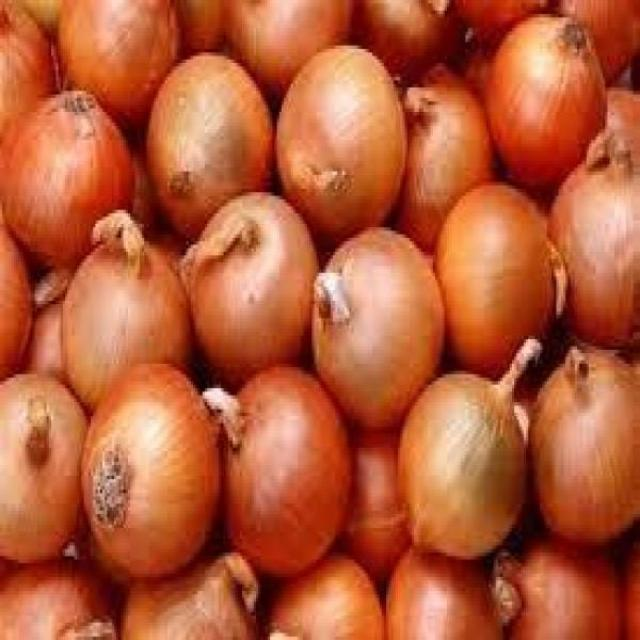Onion: (69, 365, 213, 579), (216, 360, 355, 566), (393, 370, 541, 549), (140, 58, 276, 216), (302, 232, 451, 375), (2, 94, 142, 246), (528, 348, 640, 538), (183, 198, 317, 351), (428, 188, 558, 340), (55, 237, 202, 357), (279, 54, 389, 205), (485, 23, 593, 174), (380, 538, 478, 640), (258, 561, 380, 640)
